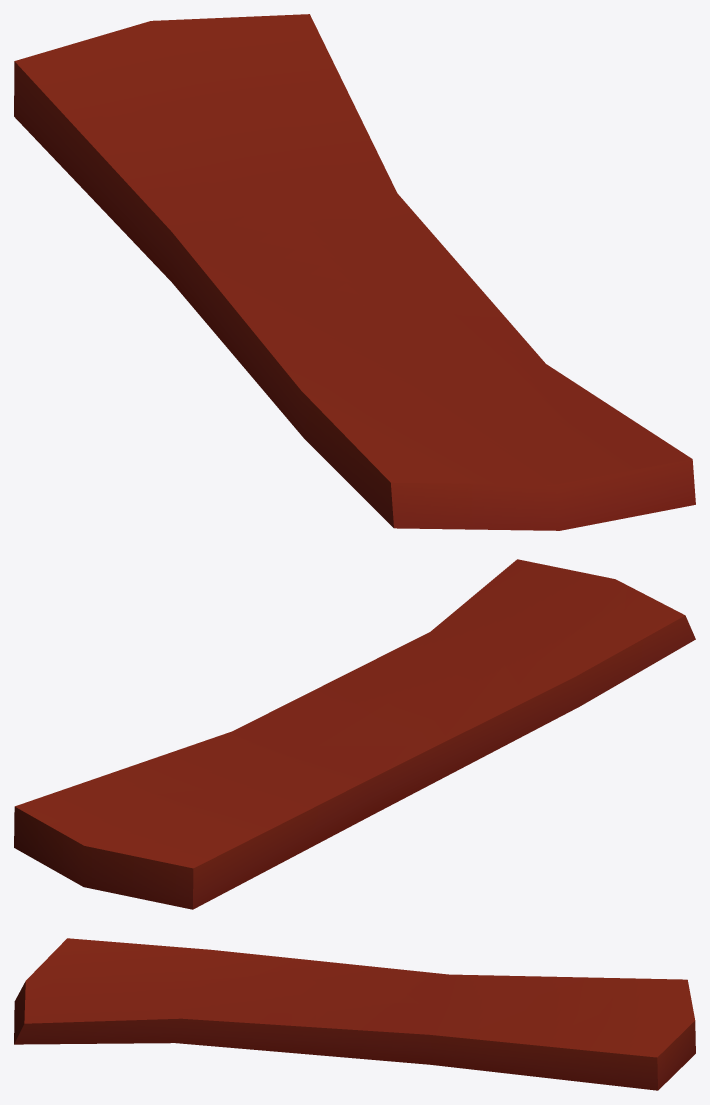
Rendered from Meat_3.fbx.
The picture shows the model from 3 angles, top to bottom: view 1: azimuth 30°, elevation 25°; view 2: azimuth 150°, elevation 25°; view 3: azimuth 270°, elevation 25°; orthographic projection. The views are drawn at different scales.
Visible parts, largest first — view 1: Meat_3; view 2: Meat_3; view 3: Meat_3.
Part boxes in pixels (box(x1,y1,x2,y2)): Meat_3: box(14, 14, 695, 530); Meat_3: box(14, 559, 695, 909); Meat_3: box(14, 938, 695, 1090).
Bounding box in the file's own units: 13.38 × 1.94 × 31.55.
